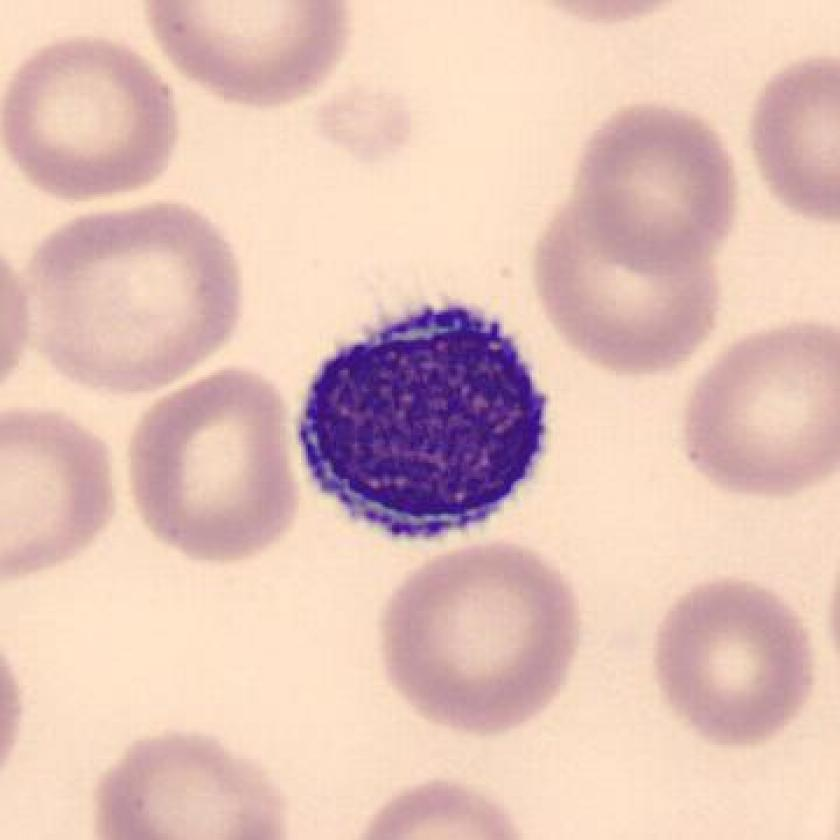lymphocyte: (283, 291, 566, 564)
